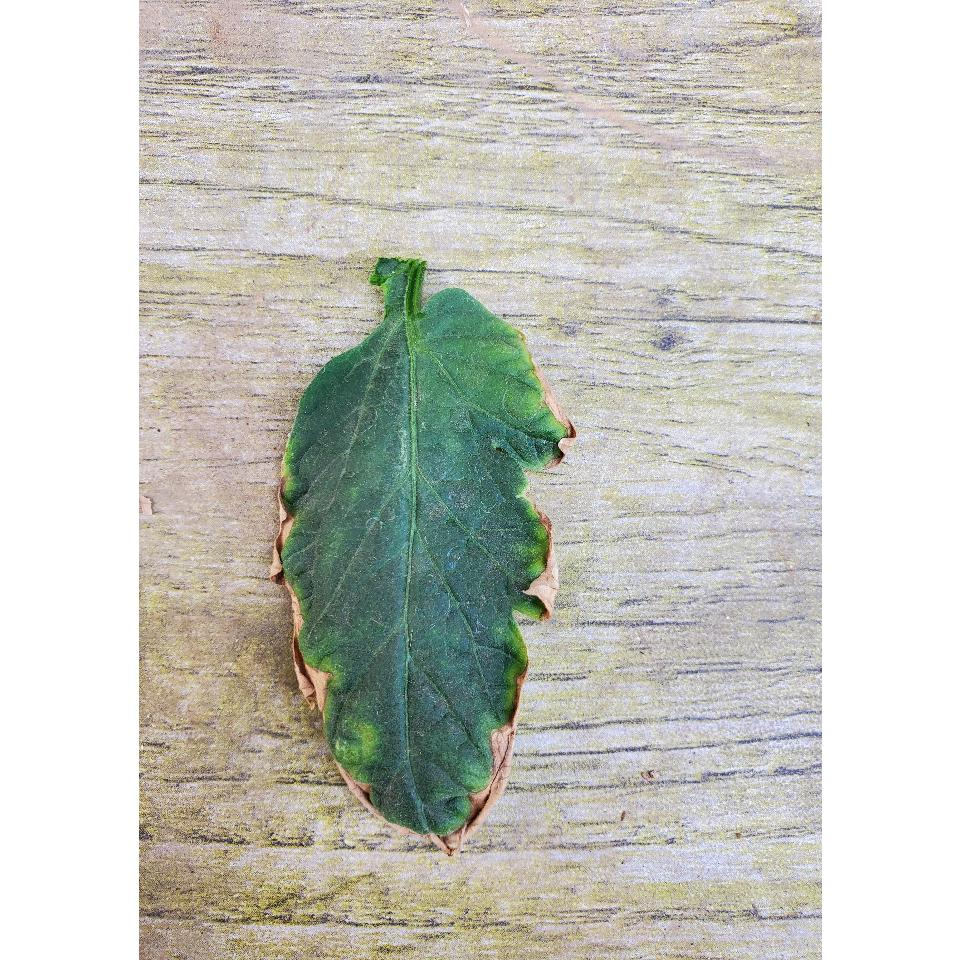tomato_bacterial_blight: (252, 214, 590, 858)
